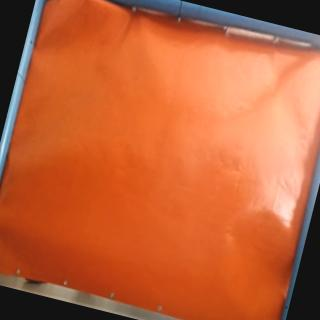Hit-hRxx: (0, 213, 11, 231)
